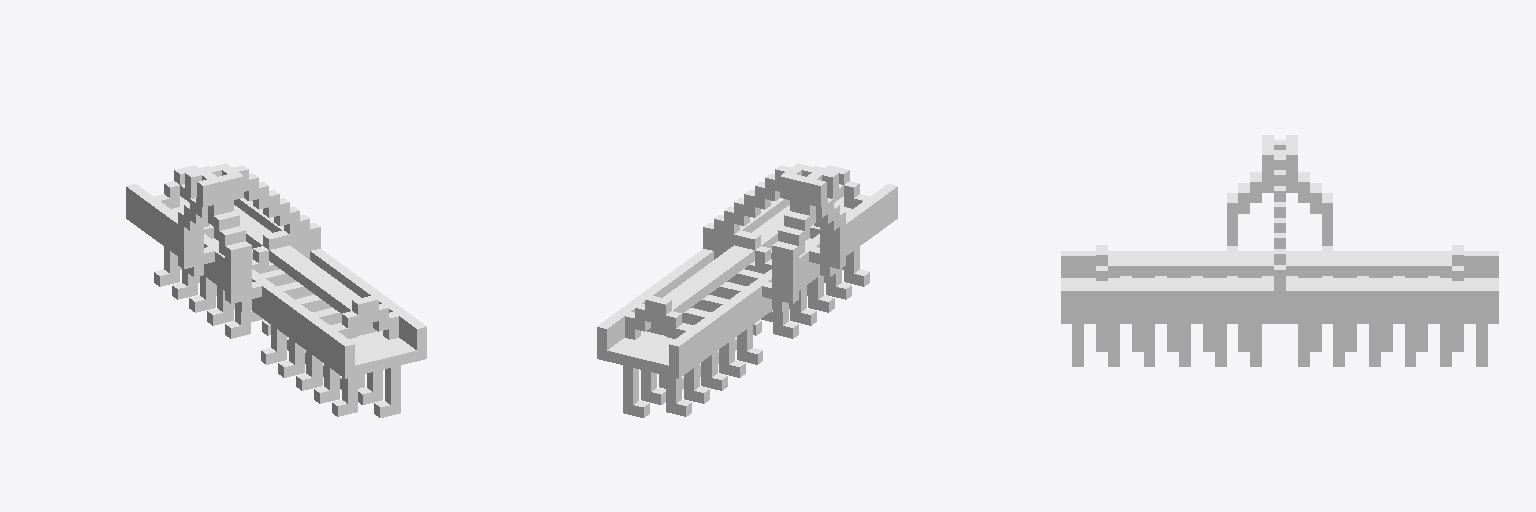
Rendered from Cultivator.obj.
3 renders of one model, left to right at view 1: azimuth 30°, elevation 25°; view 2: azimuth 150°, elevation 25°; view 3: azimuth 270°, elevation 25°, orthographic.
Visible parts, largest first — view 1: Cultivator; view 2: Cultivator; view 3: Cultivator.
Boxes of the visible parts, x1,y1,x2,y2 form: Cultivator: [126, 163, 426, 417]; Cultivator: [597, 163, 897, 417]; Cultivator: [1061, 135, 1498, 366].
Bounding box in the file's own units: 12 × 17 × 37.